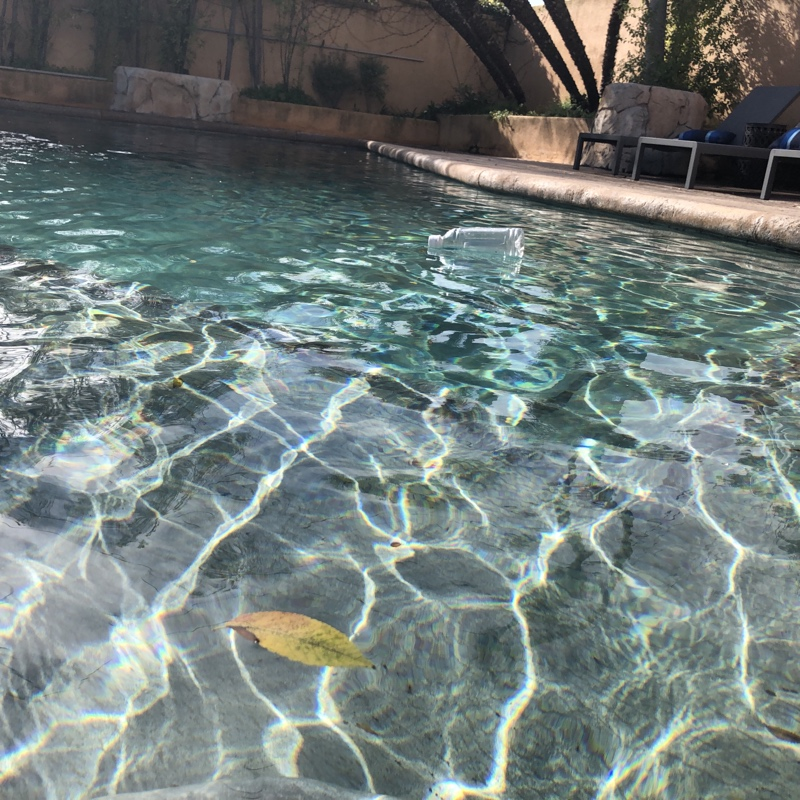Plastic Bottle: (423, 224, 529, 262)
